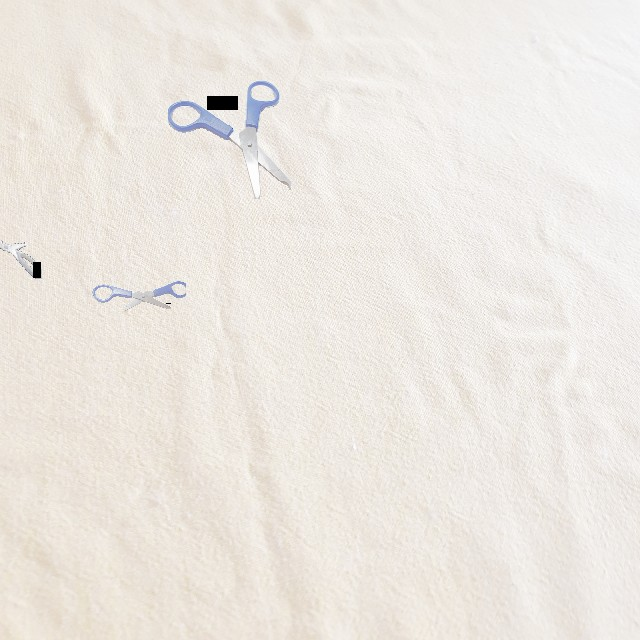scissors: (168, 80, 291, 199), (92, 281, 186, 311), (0, 233, 42, 279)
